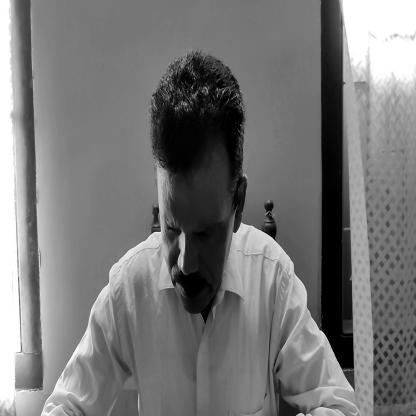Distracted: (151, 53, 246, 309)
